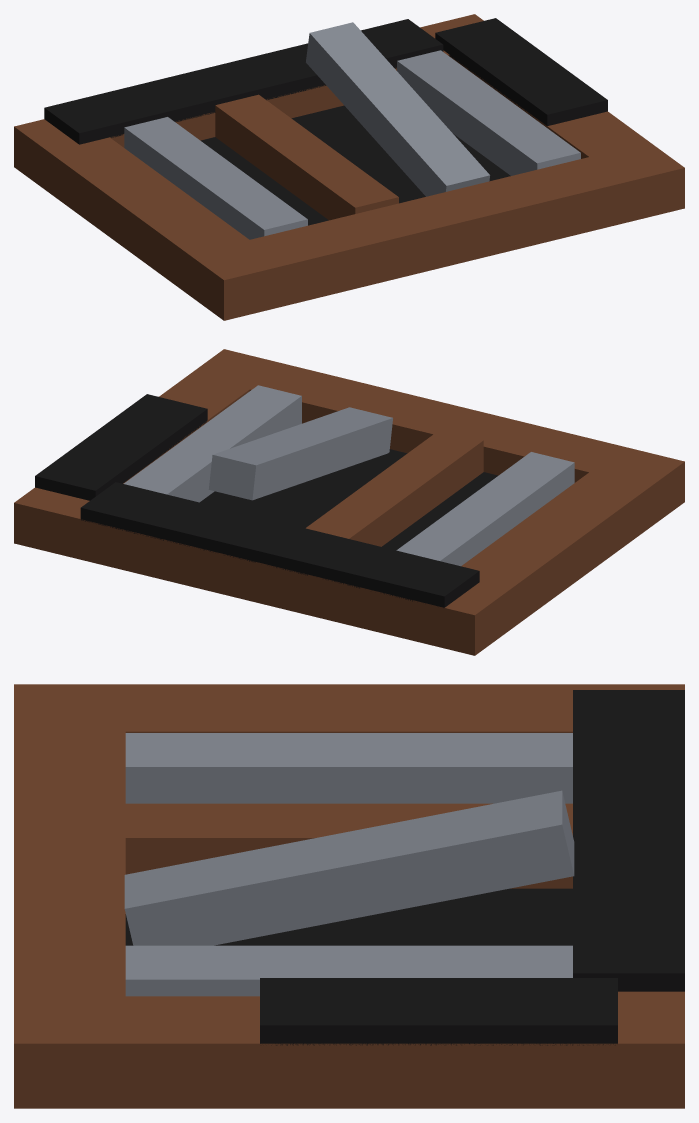
File: salvage_grille.glb
3 renders of one model, top to bottom at view 1: azimuth 30°, elevation 25°; view 2: azimuth 150°, elevation 25°; view 3: azimuth 270°, elevation 25°, orthographic. The views are drawn at different scales.
Size of the model in its own units: 0.38 by 0.0785 by 0.3.
